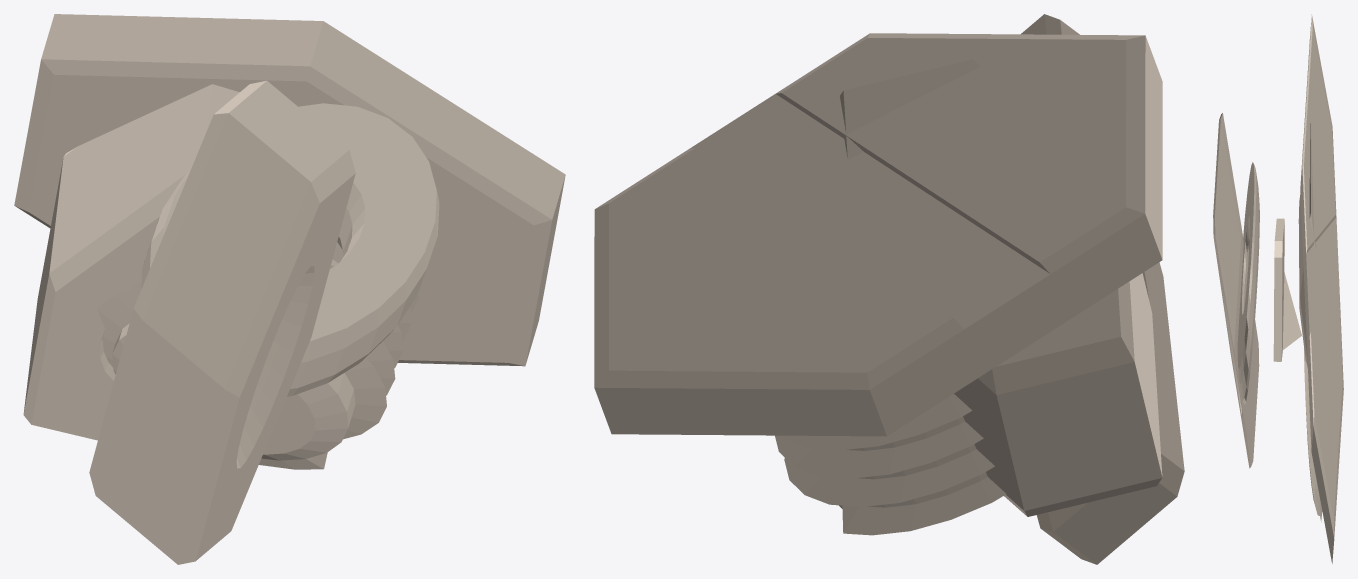
File: Pisces_Scrap_Pickup.fbx
The picture shows the model from 3 angles, left to right: view 1: azimuth 30°, elevation 25°; view 2: azimuth 150°, elevation 25°; view 3: azimuth 270°, elevation 25°; orthographic projection. The views are drawn at different scales.
Visible parts, largest first — view 1: Bolt, Nut.001, Nut, Washer; view 2: Bolt, Nut, Nut.001; view 3: Bolt, Nut.001, Washer, Plate, Nut.
Boxes of the visible parts, box(x1,y1,x2,y2) form: Bolt: box(14, 14, 565, 469); Nut.001: box(89, 80, 355, 564); Nut: box(23, 84, 239, 440); Washer: box(141, 103, 439, 396); Bolt: box(594, 33, 1162, 535); Nut: box(840, 59, 1162, 516); Nut.001: box(1021, 14, 1184, 564); Bolt: box(1300, 14, 1343, 563); Nut.001: box(1213, 113, 1259, 468); Washer: box(1237, 162, 1259, 404); Plate: box(1273, 218, 1301, 361); Nut: box(1298, 123, 1316, 368).
Size of the model in its own units: 1194 by 1146 by 325.
